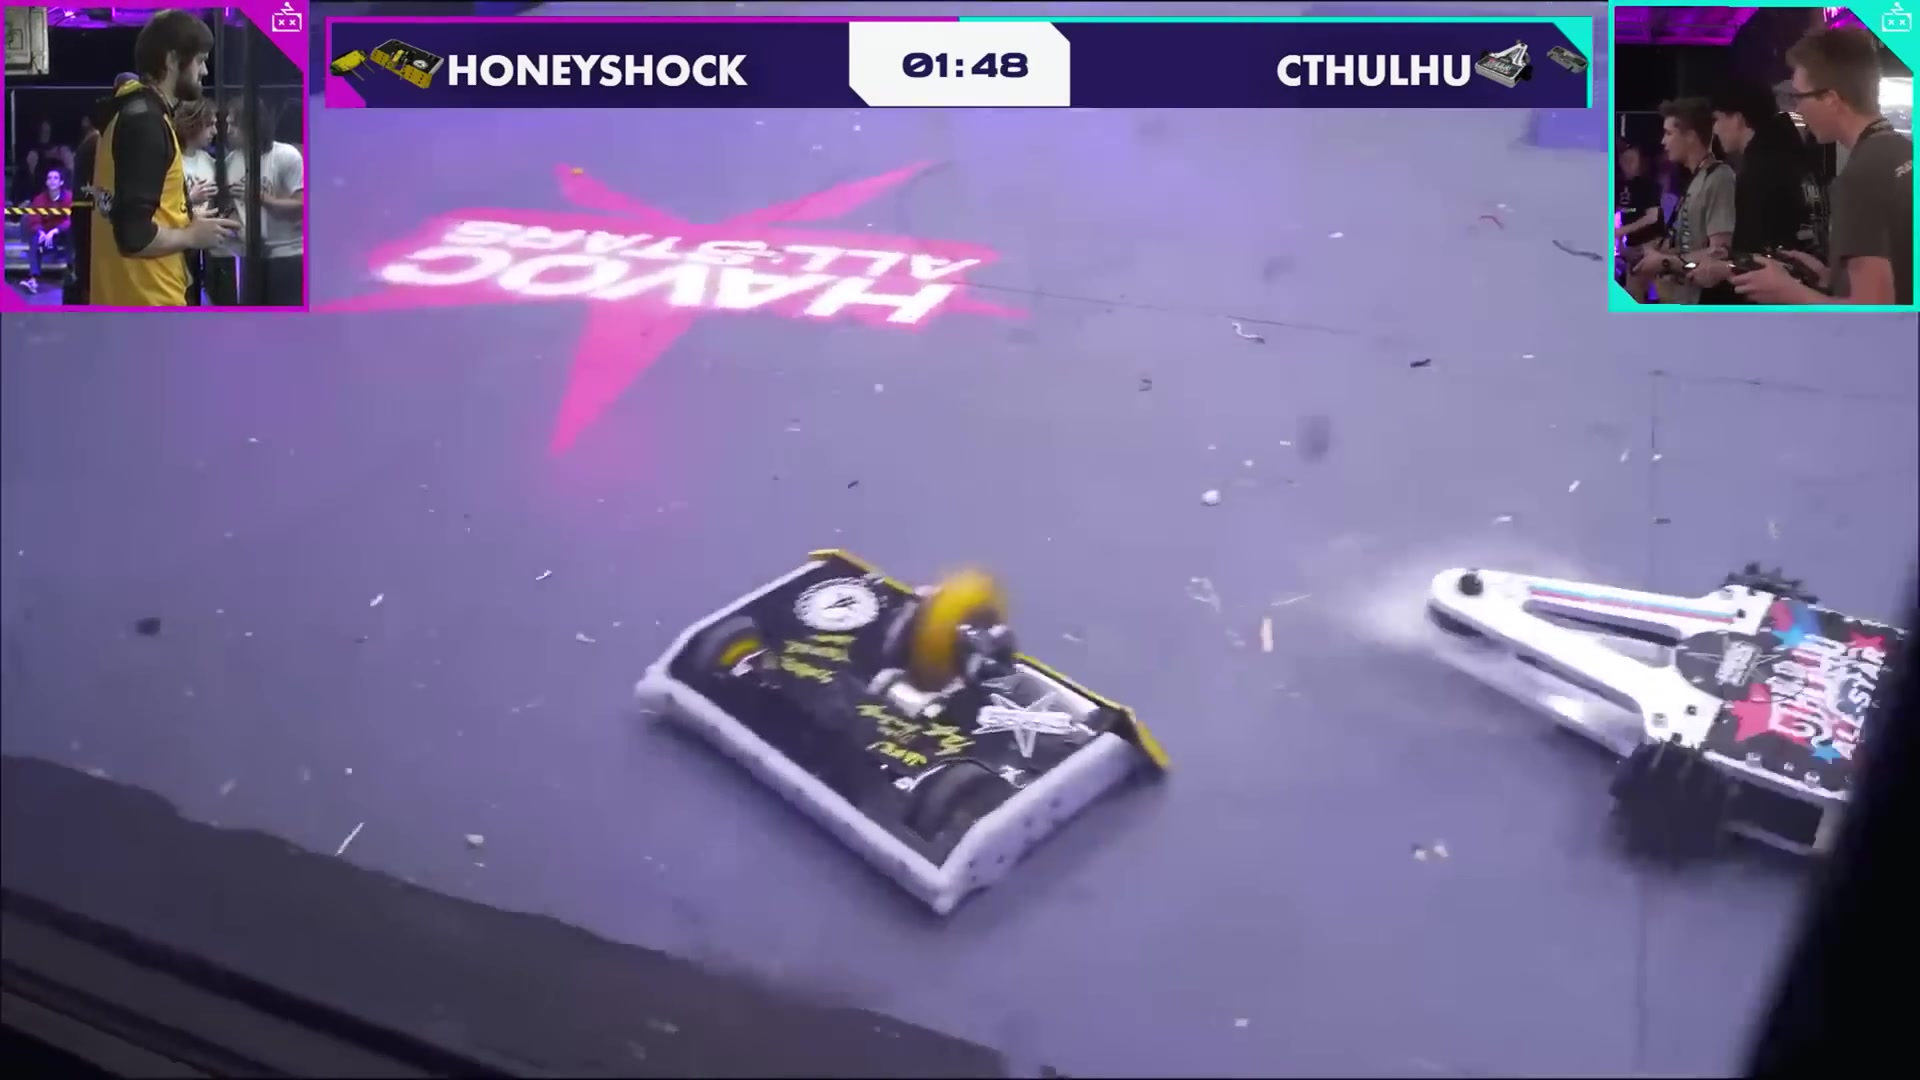combatbot: (636, 549, 1170, 913), (1427, 560, 1909, 861)
